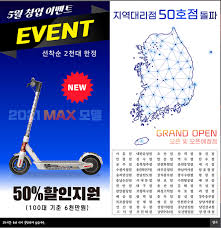kick_body: (38, 160, 80, 169)
kick_handler: (29, 76, 41, 90)
kick_wheel: (9, 154, 31, 174), (82, 153, 100, 174)
